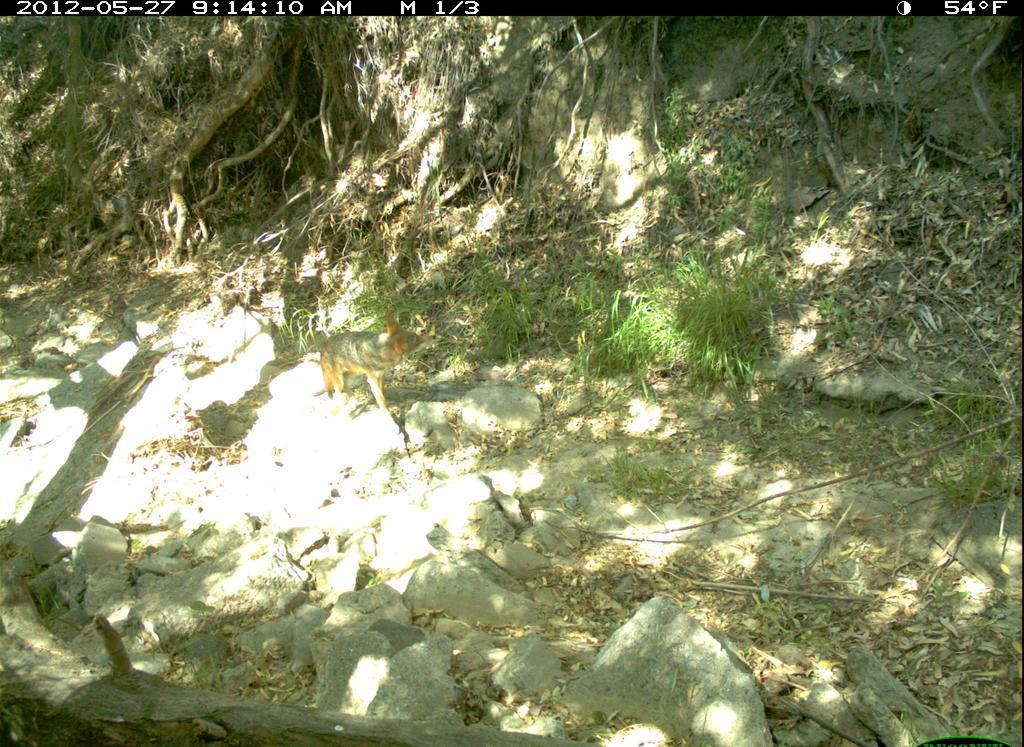coyote: (312, 310, 440, 414)
